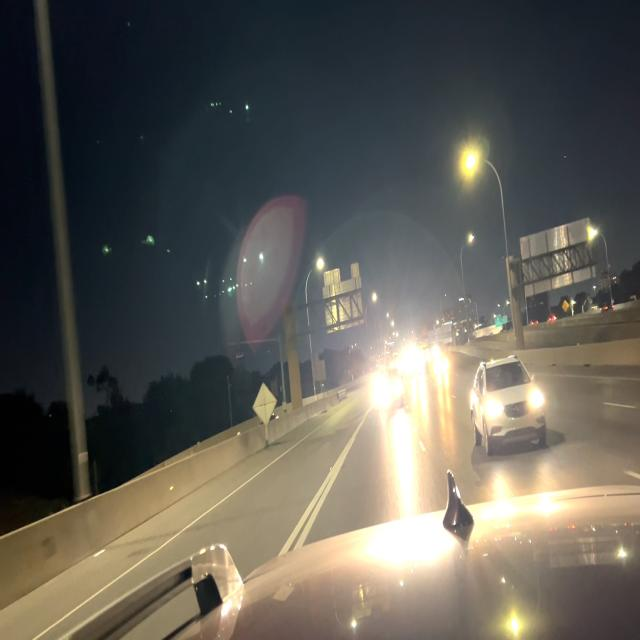back-of-sign: (518, 215, 597, 301), (322, 262, 366, 336), (252, 380, 278, 426), (312, 357, 328, 385)
